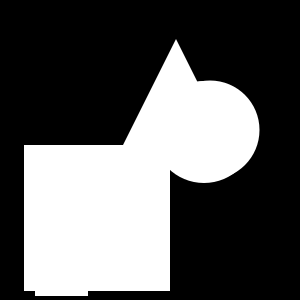circle: (24, 145, 170, 291), (35, 243, 88, 296)
rectangle: (153, 81, 255, 183), (160, 80, 260, 180)
triangle: (120, 39, 232, 151)
